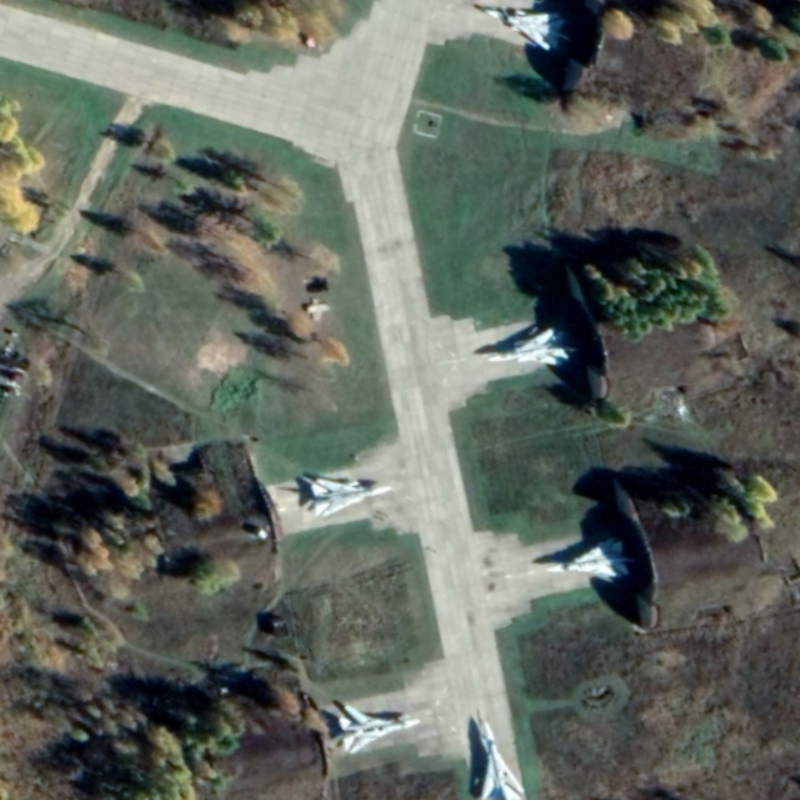A20: (336, 703, 422, 756), (476, 719, 528, 800), (483, 7, 571, 53), (485, 325, 572, 369), (545, 537, 632, 580), (309, 476, 395, 518)
